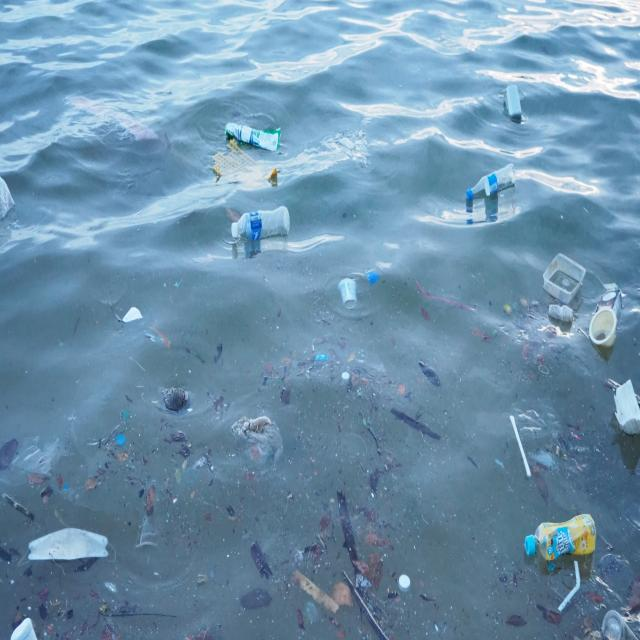foam: (609, 378, 640, 441)
plastic: (525, 511, 597, 556), (230, 202, 293, 242), (463, 170, 516, 205), (505, 82, 523, 119), (548, 302, 575, 324)
plastic bottle: (18, 423, 68, 482), (222, 112, 280, 156), (536, 251, 587, 293), (509, 411, 535, 478), (555, 560, 588, 610), (603, 601, 640, 639), (590, 310, 622, 352), (0, 176, 19, 222), (338, 273, 357, 312)
unknow: (64, 87, 159, 141), (337, 563, 391, 640), (234, 407, 294, 472), (208, 143, 283, 194), (24, 527, 108, 557), (158, 380, 199, 420), (592, 286, 624, 318), (122, 300, 144, 331)
